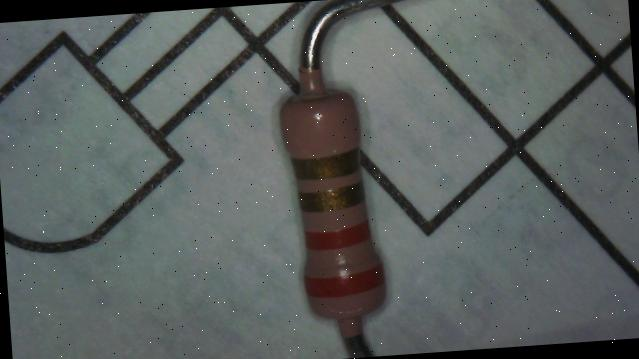gold: (290, 150, 362, 180), (298, 182, 365, 212)
orange: (304, 265, 384, 297), (305, 222, 371, 249)
resistor: (257, 66, 405, 326)
